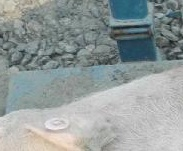text: (35, 108, 75, 141)
